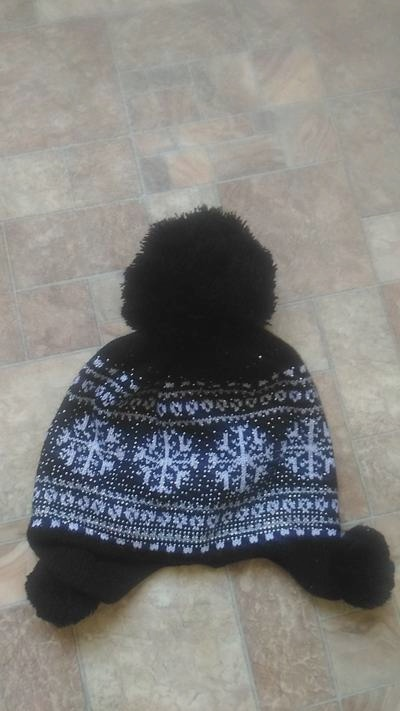Hat: (1, 189, 394, 660)
